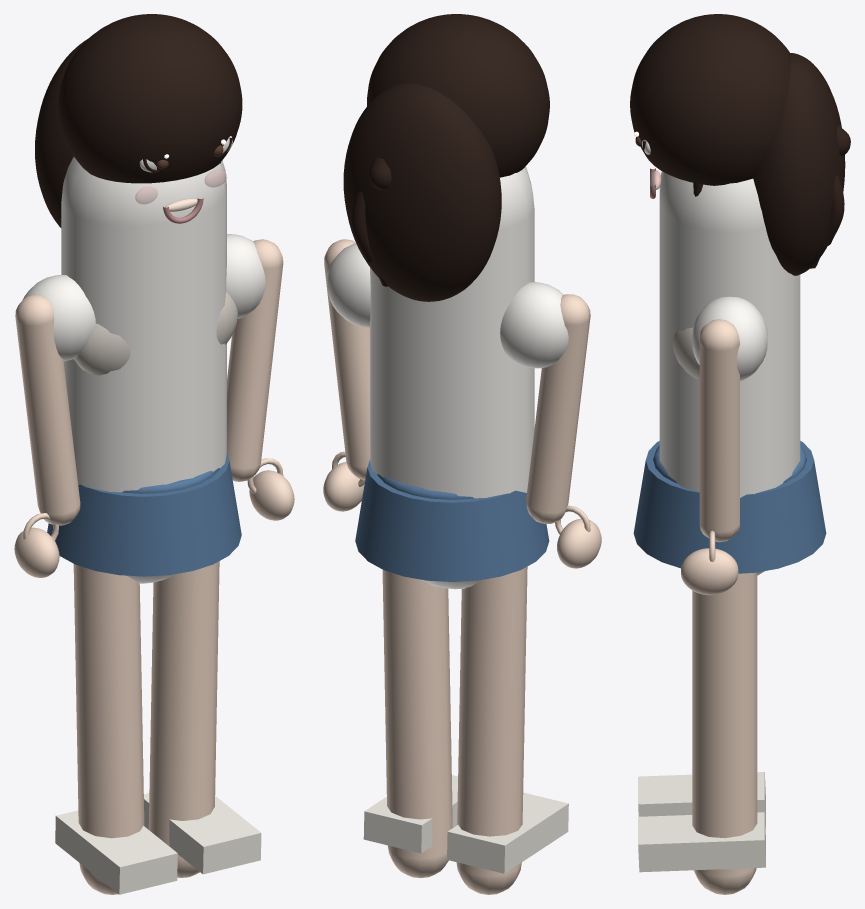
The model's file is junior_2005_hero_closeup.glb.
3 views of the same model, side by side, from view 1: azimuth 30°, elevation 25°; view 2: azimuth 150°, elevation 25°; view 3: azimuth 270°, elevation 25° (orthographic).
Parts seen in each view (by area): view 1: torso_main, leg_l (×2), hair_cap, arm_l (×2), shorts_hip, shoe_l (×2), shirt_sleeve_l (×2), hair_back, hand_l (×2), torso_chest, shorts_waistband; view 2: leg_l (×2), torso_main, hair_back, hair_cap, shorts_hip, arm_l (×2), shoe_l (×2), shirt_sleeve_l (×2), hand_l (×2), hair_pony_strand_1, shorts_waistband, hair_pony_base; view 3: torso_main, hair_cap, leg_l, shorts_hip, hair_back, arm_l, shoe_l (×2), shirt_sleeve_l, hand_l, torso_chest, hair_pony_strand_1, shorts_waistband.
Part boxes in pixels (x1,y1,x2,y2): torso_main: (61,157,226,583); leg_l (×2): (73,561,219,894); hair_cap: (58,14,242,183); arm_l (×2): (15,239,283,525); shorts_hip: (47,453,241,576); shoe_l (×2): (55,793,261,894); shirt_sleeve_l (×2): (23,234,265,361); hair_back: (35,39,87,227); hand_l (×2): (14,470,294,577); torso_chest: (74,292,237,375); shorts_waistband: (122,468,219,493); leg_l (×2): (382,566,527,894); torso_main: (370,166,534,589); hair_back: (343,83,501,301); hair_cap: (367,14,549,177); shorts_hip: (355,459,549,581); arm_l (×2): (324,239,590,523); shoe_l (×2): (363,775,568,873); shirt_sleeve_l (×2): (326,243,568,368); hand_l (×2): (323,462,601,568); hair_pony_strand_1: (351,191,374,262); shorts_waistband: (377,474,473,499); hair_pony_base: (368,157,391,190); torso_main: (659,171,800,575); hair_cap: (630,14,790,185); leg_l: (692,572,757,894); shorts_hip: (633,441,826,573); hair_back: (753,53,845,275); arm_l: (699,319,739,542); shoe_l (×2): (638,772,765,872); shirt_sleeve_l: (692,296,767,380); hand_l: (681,548,738,595); torso_chest: (672,327,699,379); hair_pony_strand_1: (823,174,844,246); shorts_waistband: (653,445,806,483).
Bounding box in the file's own units: 0.6048 × 1.85 × 0.4355.
